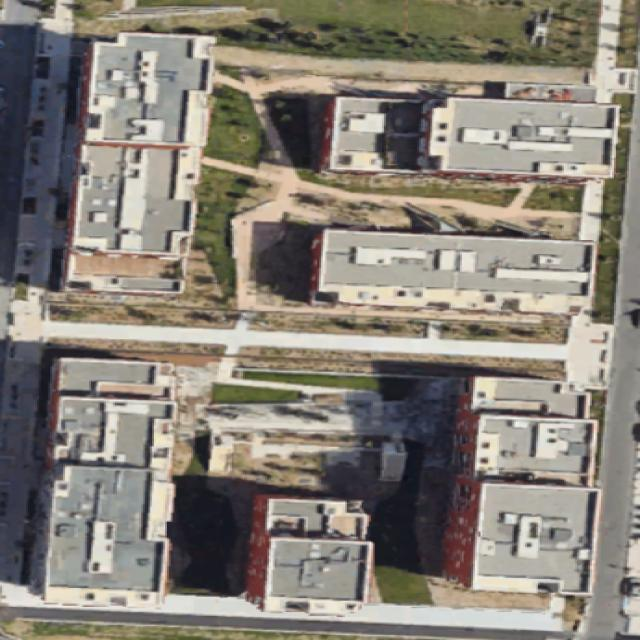immeuble: (62, 29, 211, 298), (30, 357, 183, 613), (441, 377, 604, 596), (321, 88, 618, 186), (309, 228, 596, 319), (246, 495, 377, 617)
